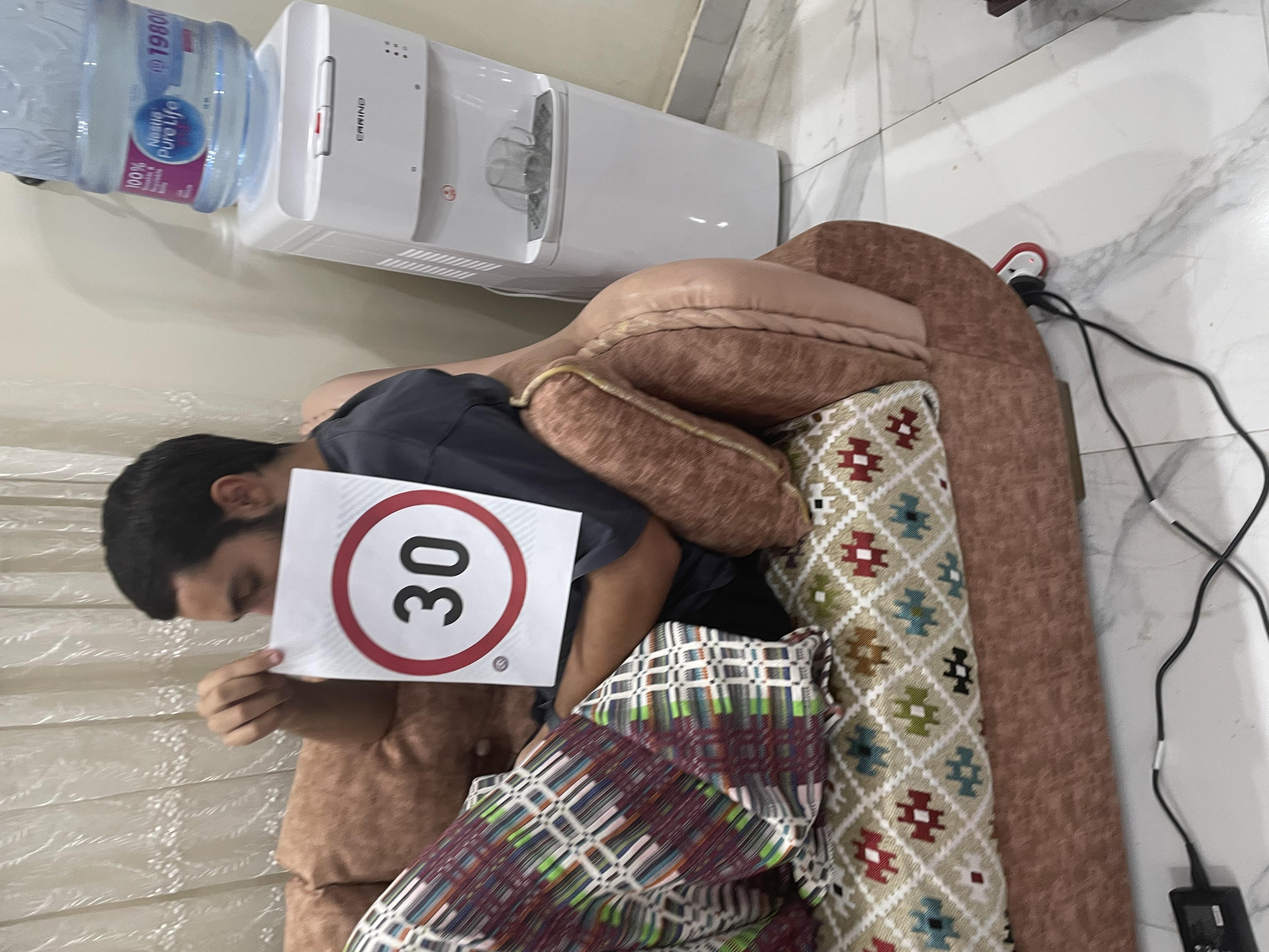30-speed: (365, 246, 626, 398)
